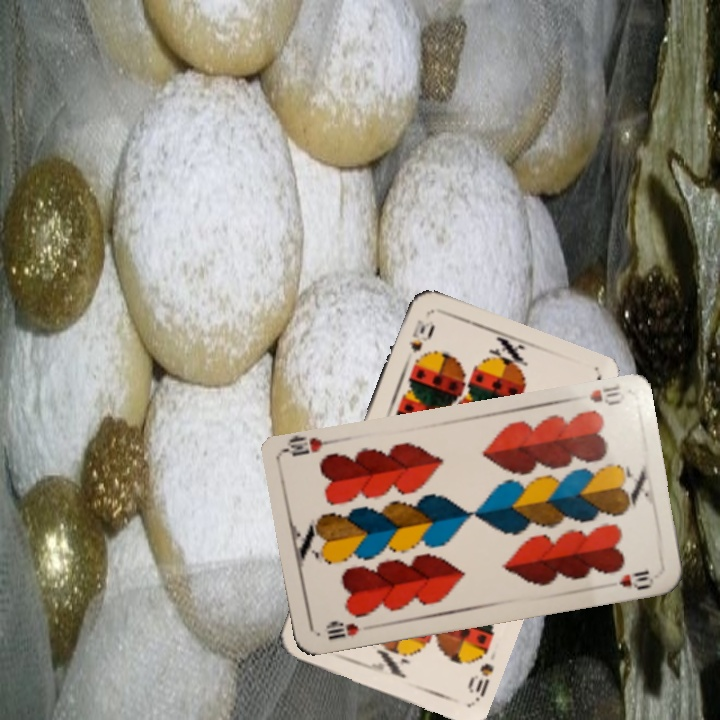H10: (586, 381, 628, 408), (321, 618, 361, 643)
S10: (463, 659, 496, 704), (404, 315, 429, 356)
